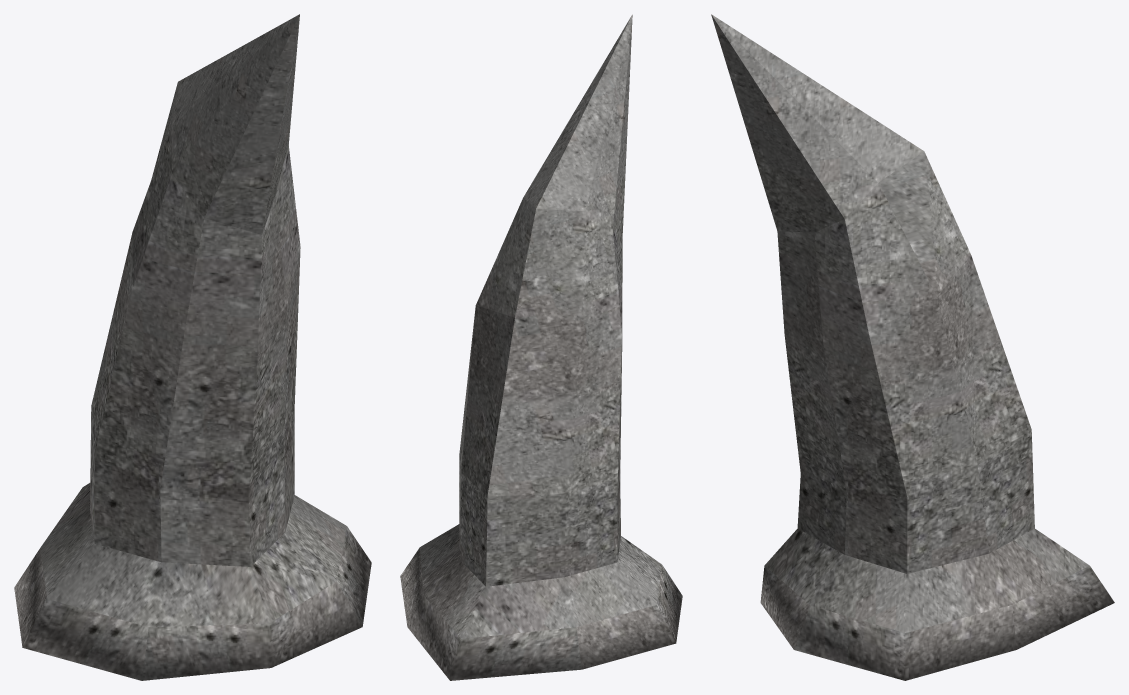
The model's file is rockSpikeA.fbx.
3 views of the same model, side by side, from view 1: azimuth 30°, elevation 25°; view 2: azimuth 150°, elevation 25°; view 3: azimuth 270°, elevation 25° (orthographic). The views are drawn at different scales.
Parts seen in each view (by area): view 1: Cube; view 2: Cube; view 3: Cube.
Part boxes in pixels (left/top/right/bottom): Cube: left=14, top=14, right=371, bottom=680; Cube: left=400, top=14, right=682, bottom=680; Cube: left=711, top=14, right=1114, bottom=680.
Bounding box in the file's own units: 1547 × 2856 × 1775.
